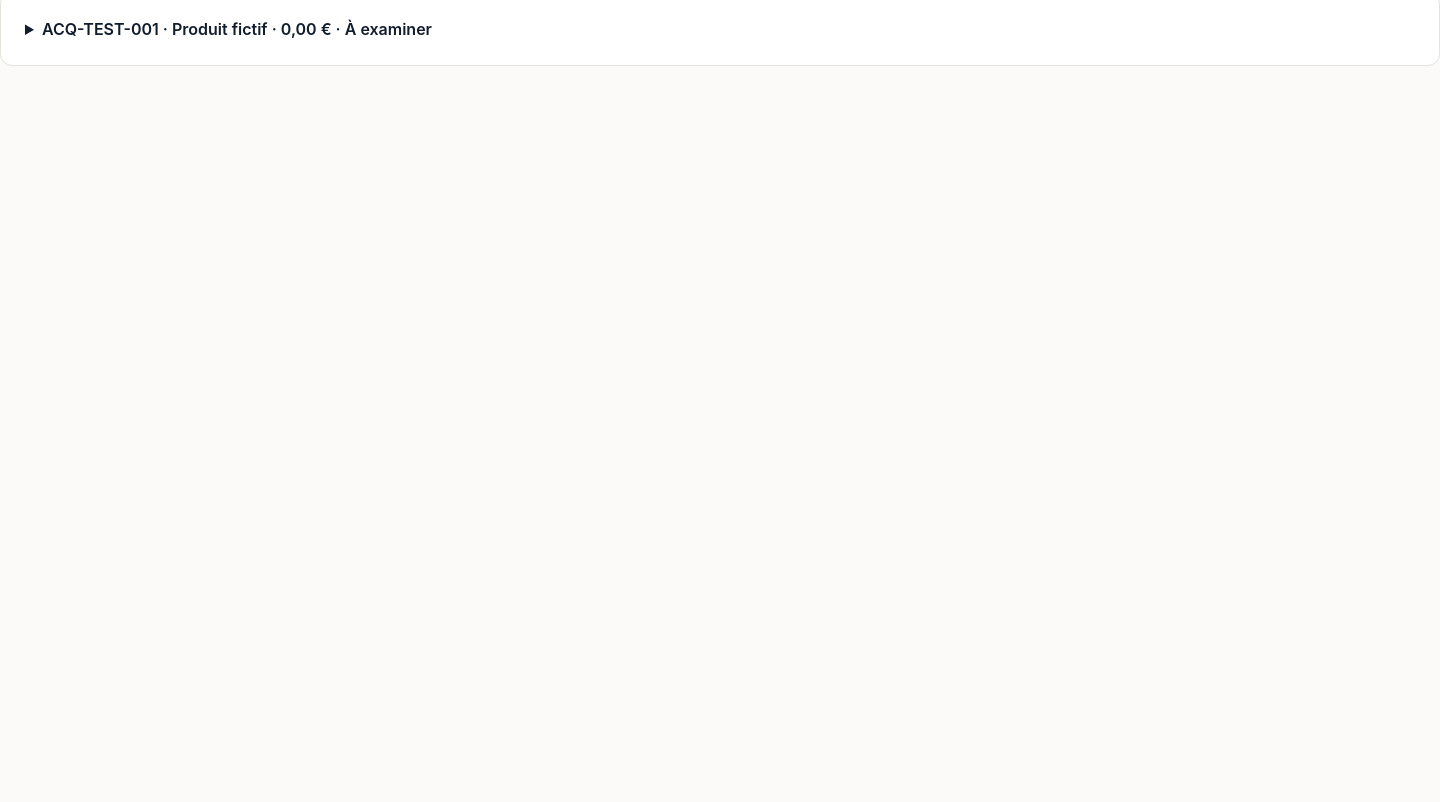
Test: Merchant quote agreement › shows the actual supplier, separate issuers and an unchecked, optional-marketing-independent agreement
Click the heading "ACQ-TEST-001 · Produit fictif · 0,00 € · À examiner". click: point(237, 29)
box: [42,19,432,39]
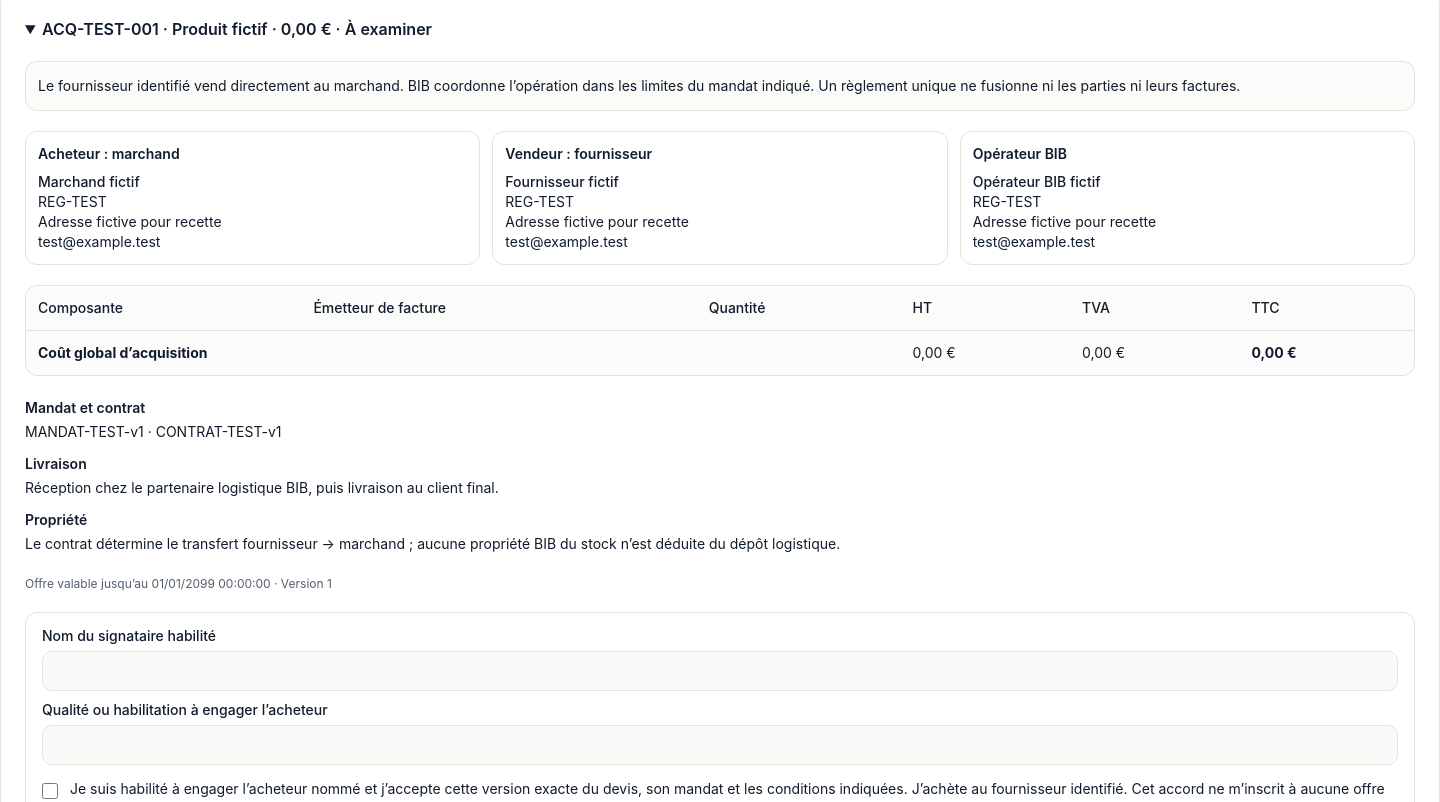
Expected: the text "Fournisseur fictif" is shown, [505,173,619,190]
Expected: the checkbox is not checked, [42,783,58,799]
Type "Gérante test" into the field labelled "Nom du signataire habilité". click: point(720, 671)
box: [42,651,1398,691]
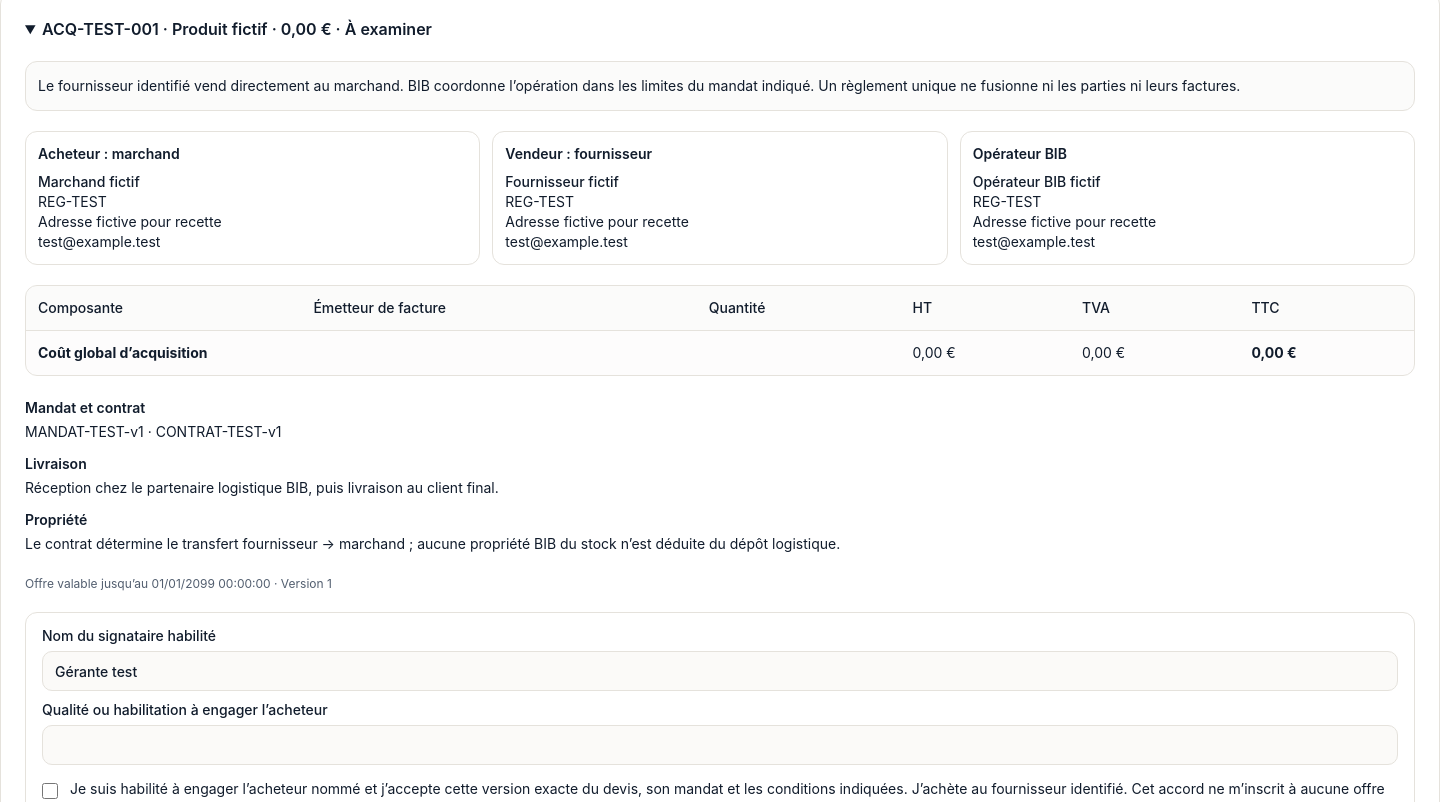
Type "Mandataire" into the field labelled "Qualité ou habilitation à engager l’acheteur". click: point(720, 745)
box: [42,725,1398,765]
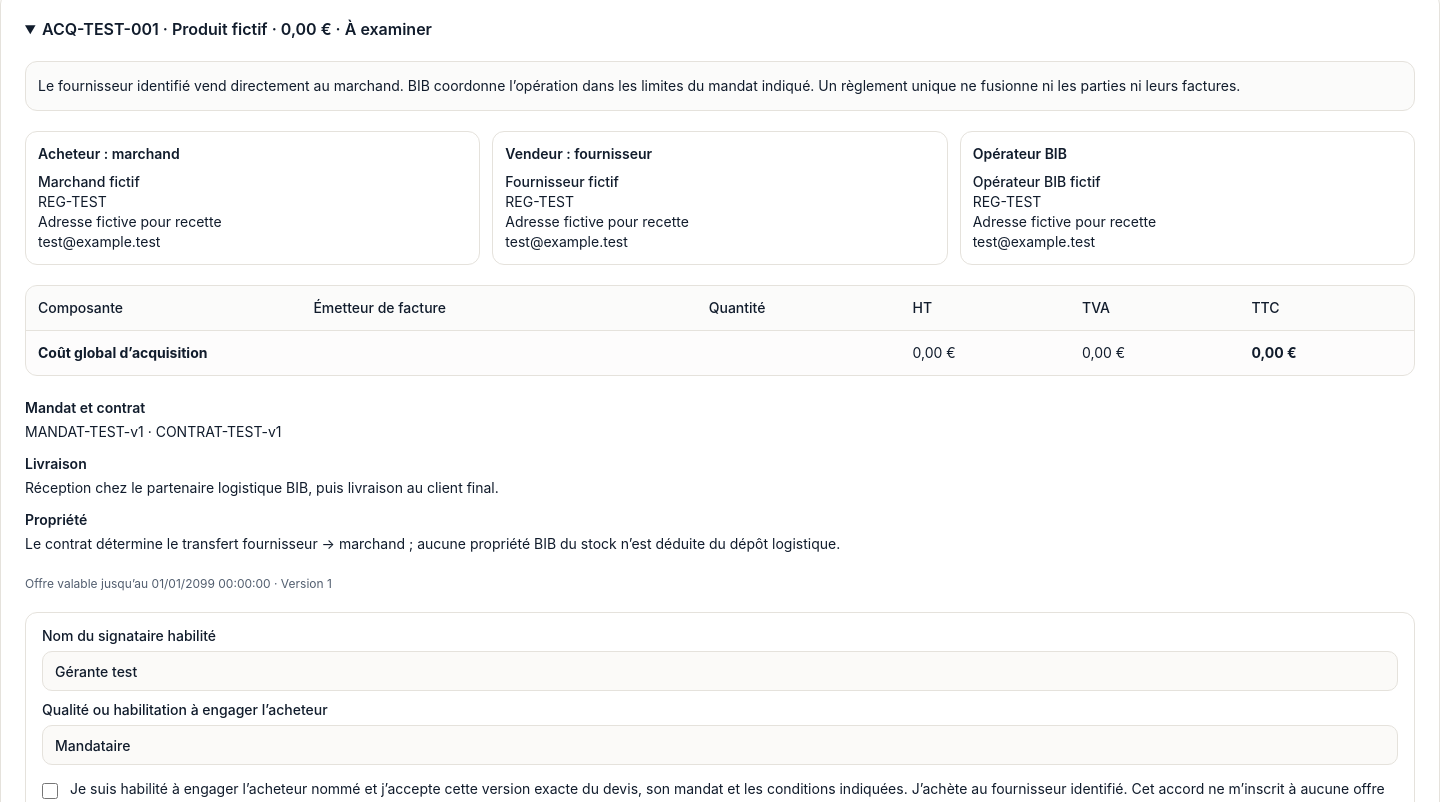
Click the checkbox. click: point(50, 791)
box: [42,783,58,799]
(page scrolled)
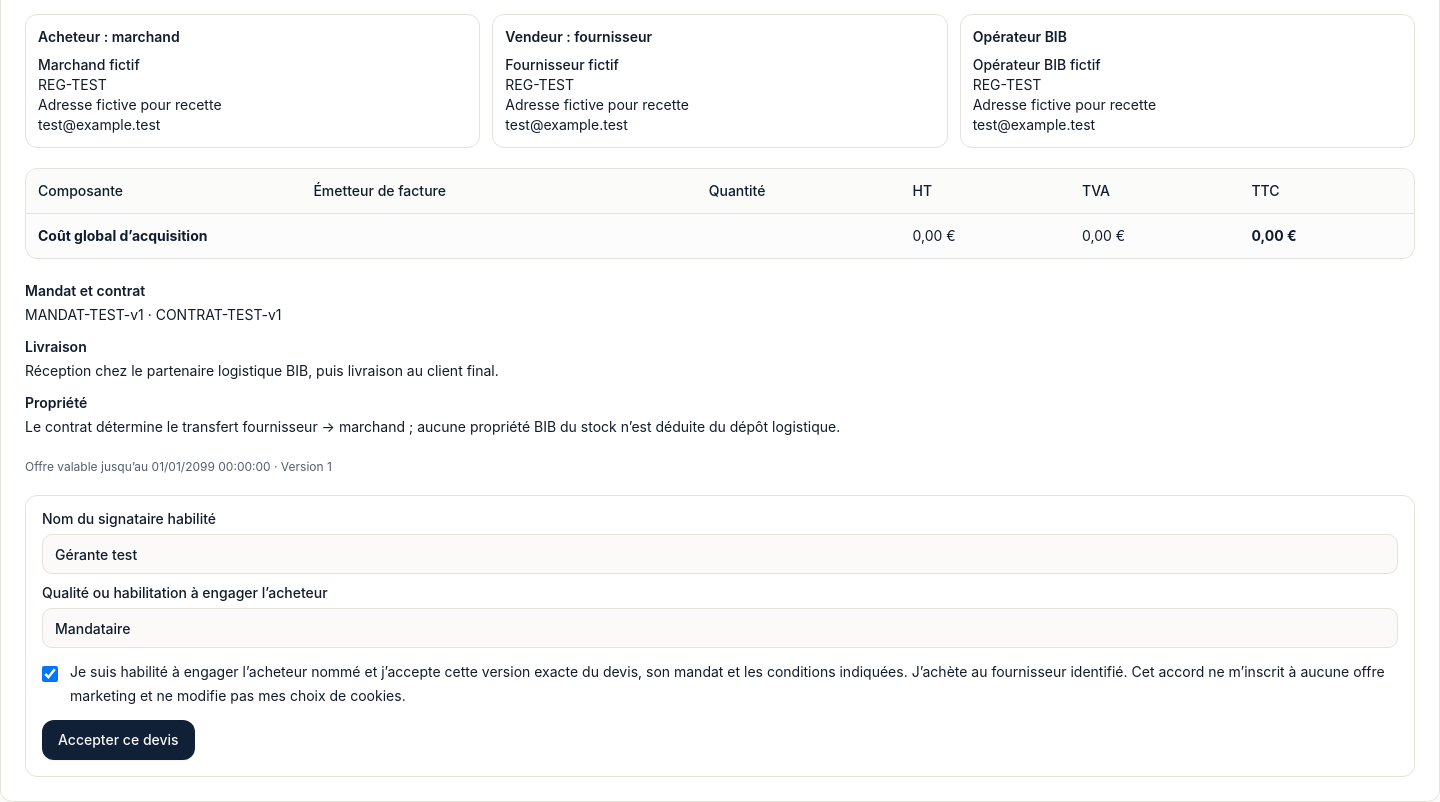
Click the button "Accepter ce devis". click: point(118, 740)
box: [42,720,195,760]
(page scrolled)
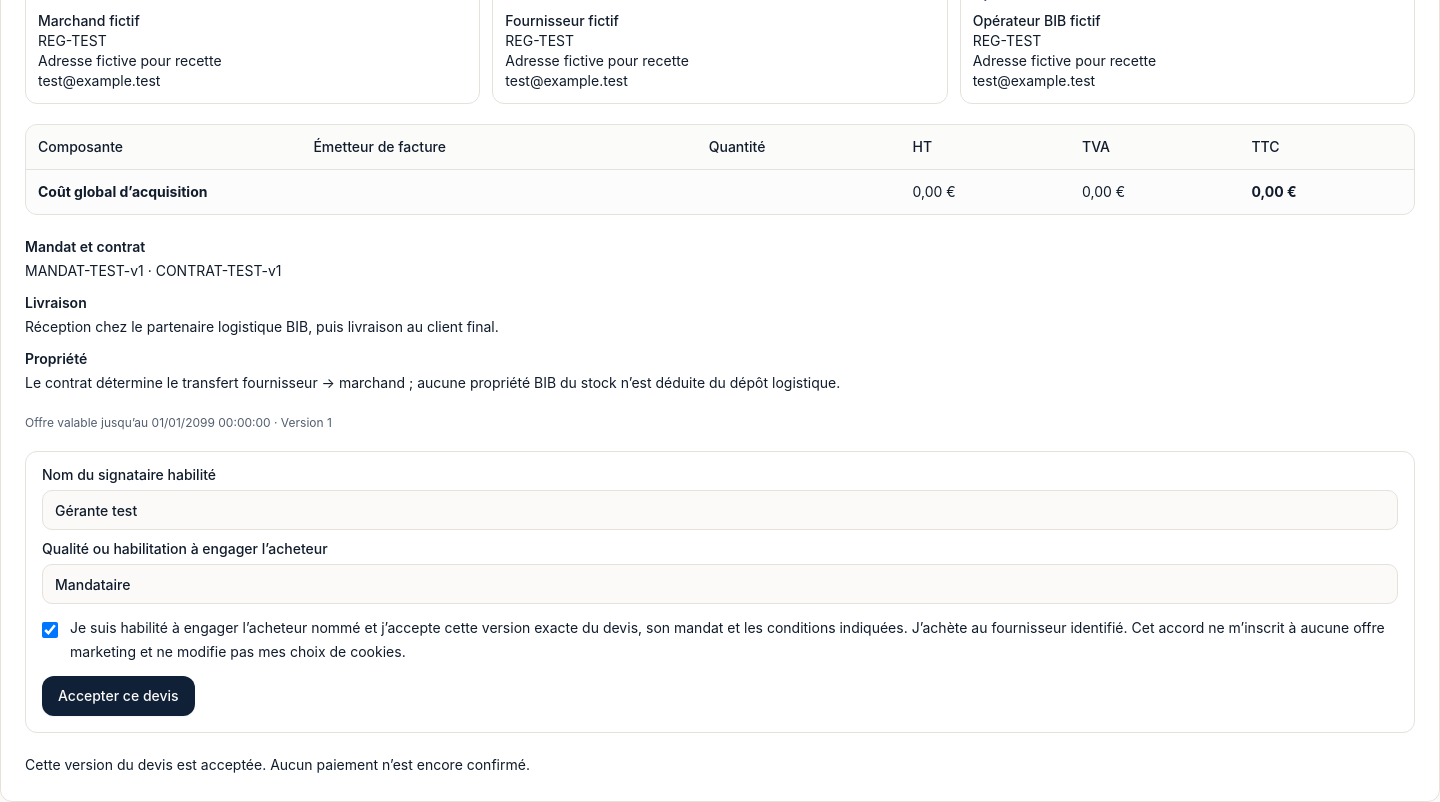
Expected: the message shows "Aucun paiement n’est encore confirmé", [25,756,530,773]
